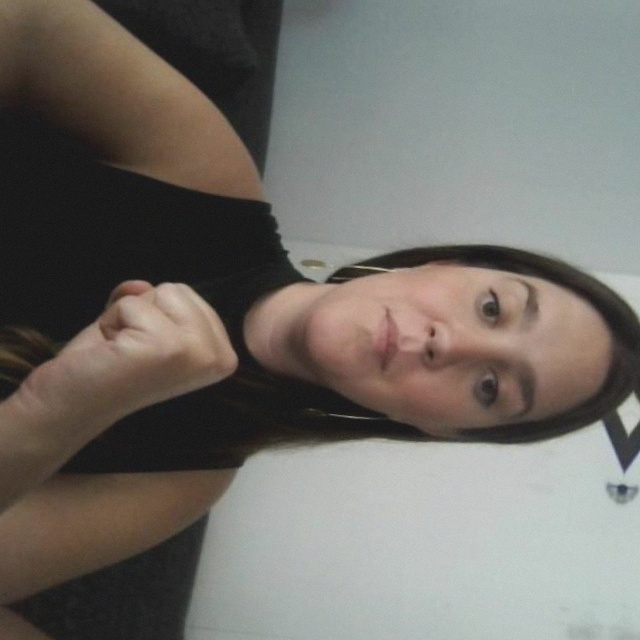Rock: (26, 261, 253, 443)
